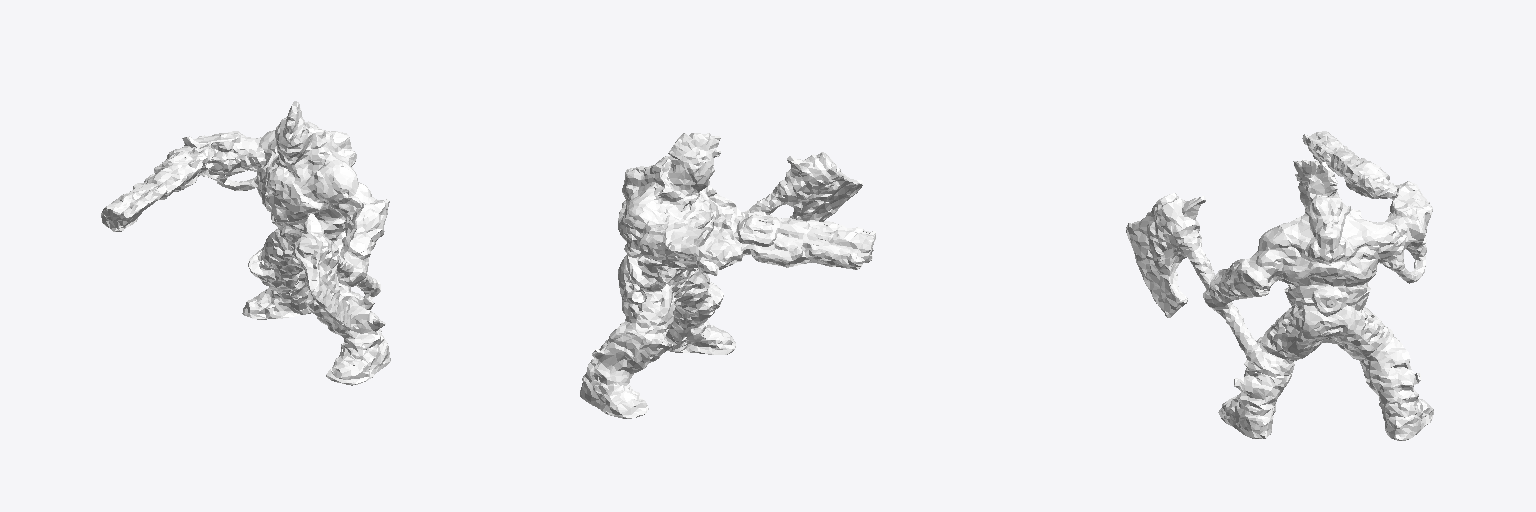
Rendered from Happy.obj.
3 views of the same model, side by side, from view 1: azimuth 30°, elevation 25°; view 2: azimuth 150°, elevation 25°; view 3: azimuth 270°, elevation 25° (orthographic).
Parts seen in each view (by area): view 1: Draft_1.001; view 2: Draft_1.001; view 3: Draft_1.001.
Boxes of the visible parts, x1,y1,x2,y2 form: Draft_1.001: [101, 101, 390, 385]; Draft_1.001: [580, 133, 875, 418]; Draft_1.001: [1126, 131, 1433, 440].
Bounding box in the file's own units: 3.42 × 3.17 × 3.55.